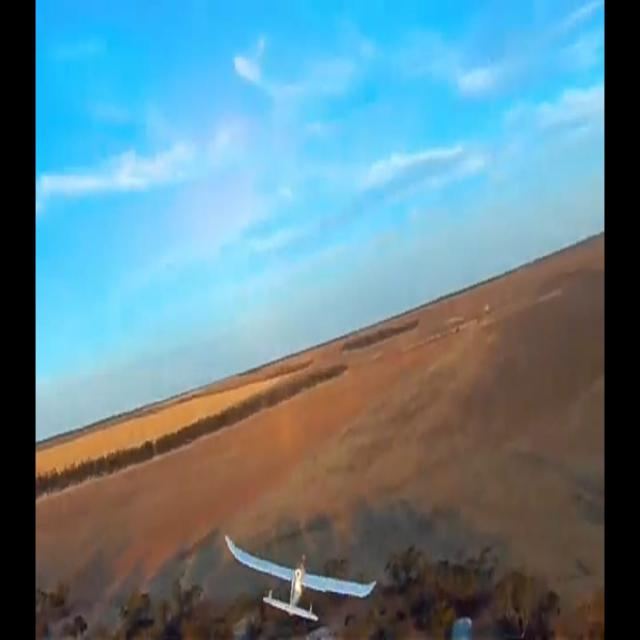iha: (225, 565, 377, 594)
